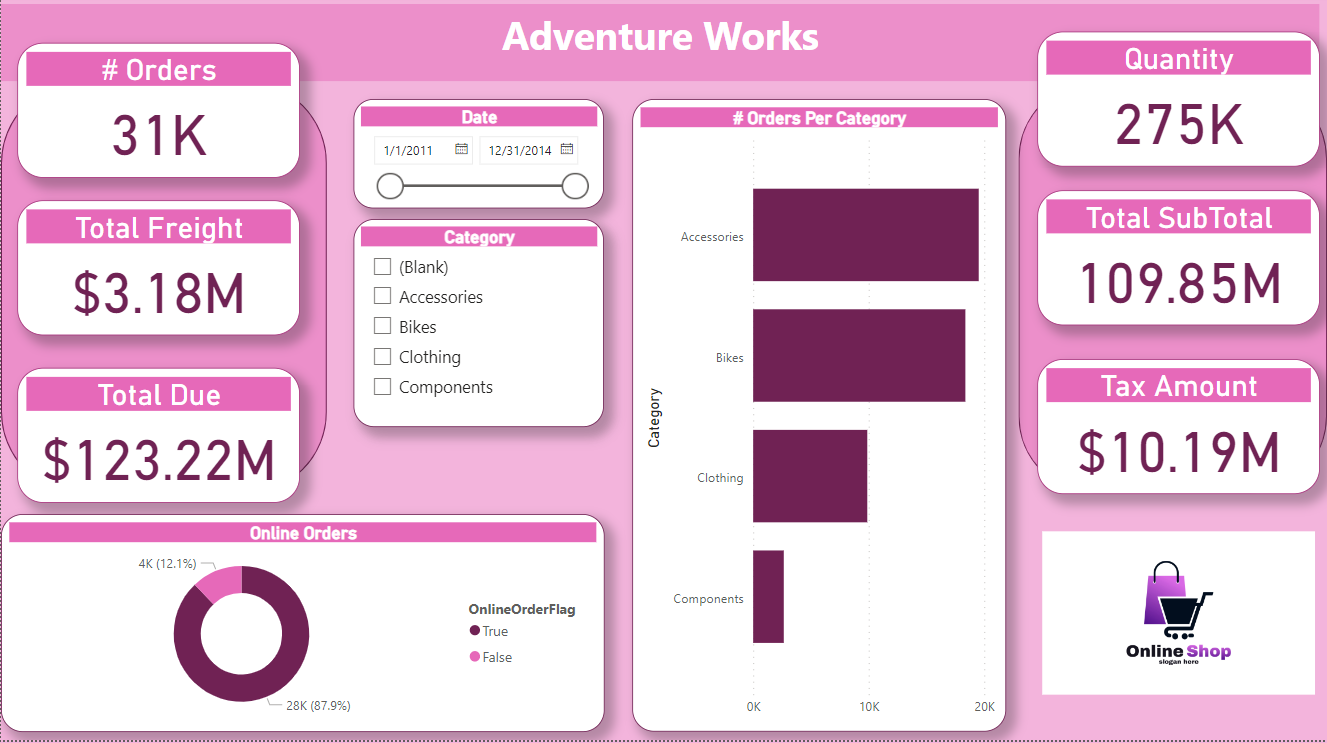

Layout of this report page (visuals, bound fields, positions):
{"tool":"powerbi","page":{"name":"Overview","canvas":[1280,720],"ordinal":0},"visuals":[{"type":"textbox","box":[0,9.6,1272.4,74.8],"z":0},{"type":"shape","box":[981.7,84.4,297.9,398],"z":1000},{"type":"shape","box":[0,84.4,314.8,398],"z":2000},{"type":"card","title":"Total SubTotal","fields":{"Values":["Order Details.TotalSubTotal"]},"box":[999.8,189.3,272.6,130.3],"z":3000},{"type":"card","title":"Total Due ","fields":{"Values":["Order Details.TotalDueSum"]},"box":[15.7,360.6,272.6,130.3],"z":4000},{"type":"card","title":"Tax Amount","fields":{"Values":["Order Details.TotalTax"]},"box":[999.8,352.2,272.6,130.3],"z":5000},{"type":"card","title":"Total Freight","fields":{"Values":["Date.TotalFrieght"]},"box":[15.7,199,272.6,130.3],"z":6000},{"type":"card","title":"# Orders","fields":{"Values":["Table.# Orders"]},"box":[15.7,47,272.6,130.3],"z":7000},{"type":"card","title":"Quantity","fields":{"Values":["Order Details.Quantity"]},"box":[999.8,36.2,272.6,130.3],"z":8000},{"type":"clusteredBarChart","title":"# Orders Per Category","fields":{"Category":["Products.Category Hierarchy.Category","Products.Category Hierarchy.Sub Category","Products.Category Hierarchy.Product"],"Y":["Table.# Orders"]},"box":[609,101.3,360.6,610.3],"z":9000},{"type":"donutChart","title":"Online Orders","fields":{"Y":["Table.# Orders"],"Category":["Order Details.OnlineOrderFlag"]},"box":[0,501.3,582.3,210.1],"z":10000},{"type":"slicer","title":"Date","fields":{"Values":["Date.Date"]},"box":[340.6,101.6,241.7,105.8],"z":11000},{"type":"slicer","title":"Category","fields":{"Values":["Products.Category"]},"box":[340.6,217,241.7,200.5],"z":12000},{"type":"image","box":[1000,482,273,229],"z":13000}]}

Visuals, with their boxes in screenshot pixels (x1, y1, x2, y2), scaled from the page's 1280x720 canvas onto the 1327x743 screenshot:
textbox: x1=0 y1=10 x2=1319 y2=87
shape: x1=1018 y1=87 x2=1326 y2=498
shape: x1=0 y1=87 x2=326 y2=498
"Total SubTotal" card: x1=1037 y1=195 x2=1319 y2=330
"Total Due " card: x1=16 y1=372 x2=299 y2=507
"Tax Amount" card: x1=1037 y1=363 x2=1319 y2=498
"Total Freight" card: x1=16 y1=205 x2=299 y2=340
"# Orders" card: x1=16 y1=49 x2=299 y2=183
"Quantity" card: x1=1037 y1=37 x2=1319 y2=172
"# Orders Per Category" clusteredBarChart: x1=631 y1=105 x2=1005 y2=734
"Online Orders" donutChart: x1=0 y1=517 x2=604 y2=734
"Date" slicer: x1=353 y1=105 x2=604 y2=214
"Category" slicer: x1=353 y1=224 x2=604 y2=431
image: x1=1037 y1=497 x2=1320 y2=734
